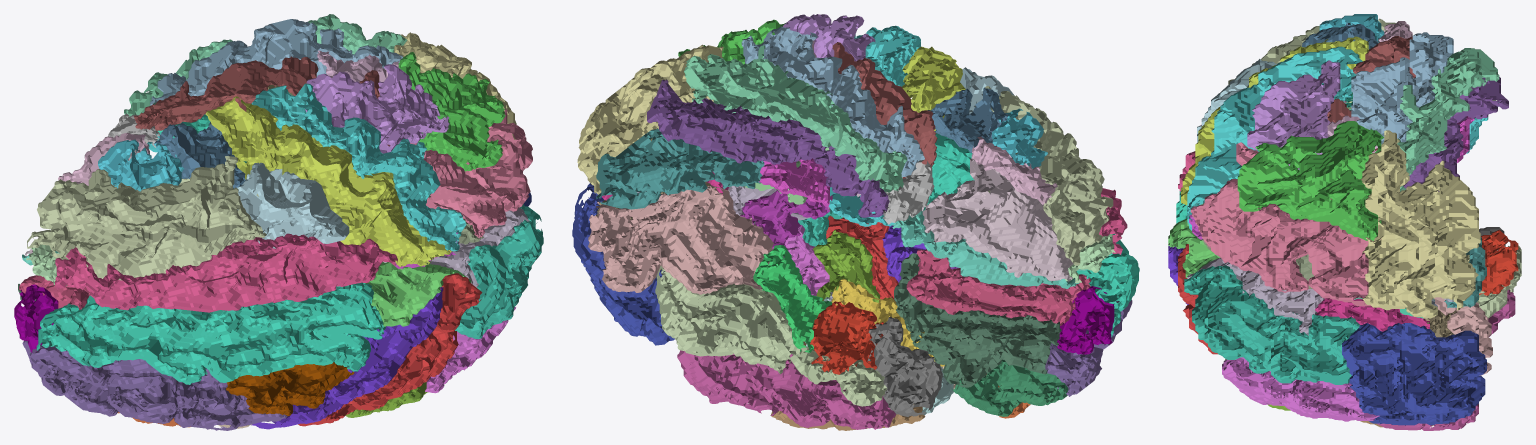
The model's file is wmparc.glb.
3 views of the same model, side by side, from view 1: azimuth 30°, elevation 25°; view 2: azimuth 150°, elevation 25°; view 3: azimuth 270°, elevation 25° (orthographic). The views are drawn at different scales.
Visible parts, largest first — view 1: 2028_ctx-rh-superiorfrontal, 3027_wm-lh-rostralmiddlefrontal, 3028_wm-lh-superiorfrontal, 3024_wm-lh-precentral, 2027_ctx-rh-rostralmiddlefrontal, 3022_wm-lh-postcentral, 3029_wm-lh-superiorparietal, 3031_wm-lh-supramarginal, 3008_wm-lh-inferiorparietal, 3015_wm-lh-middletemporal, 3003_wm-lh-caudalmiddlefrontal, 3030_wm-lh-superiortemporal (+18 smaller); view 2: 2013_ctx-rh-lingual, 2007_ctx-rh-fusiform, 3009_wm-lh-inferiortemporal, 3007_wm-lh-fusiform, 3012_wm-lh-lateralorbitofrontal, 2012_ctx-rh-lateralorbitofrontal, 2009_ctx-rh-inferiortemporal, 3013_wm-lh-lingual, 3015_wm-lh-middletemporal, 3027_wm-lh-rostralmiddlefrontal, 2014_ctx-rh-medialorbitofrontal, 3011_wm-lh-lateraloccipital (+33 smaller); view 3: 3011_wm-lh-lateraloccipital, 2011_ctx-rh-lateraloccipital, 3029_wm-lh-superiorparietal, 2029_ctx-rh-superiorparietal, 3008_wm-lh-inferiorparietal, 3022_wm-lh-postcentral, 3015_wm-lh-middletemporal, 3009_wm-lh-inferiortemporal, 3031_wm-lh-supramarginal, 2008_ctx-rh-inferiorparietal, 3007_wm-lh-fusiform, 2025_ctx-rh-precuneus (+19 smaller).
Part boxes in pixels (left/top/right/bottom): 2028_ctx-rh-superiorfrontal: left=36, top=282, right=385, bottom=384; 3027_wm-lh-rostralmiddlefrontal: left=27, top=156, right=266, bottom=280; 3028_wm-lh-superiorfrontal: left=55, top=233, right=397, bottom=312; 3024_wm-lh-precentral: left=205, top=96, right=451, bottom=266; 2027_ctx-rh-rostralmiddlefrontal: left=22, top=339, right=287, bottom=430; 3022_wm-lh-postcentral: left=251, top=83, right=466, bottom=251; 3029_wm-lh-superiorparietal: left=387, top=109, right=532, bottom=238; 3031_wm-lh-supramarginal: left=305, top=64, right=449, bottom=153; 3008_wm-lh-inferiorparietal: left=398, top=52, right=505, bottom=171; 3015_wm-lh-middletemporal: left=150, top=19, right=402, bottom=105; 3003_wm-lh-caudalmiddlefrontal: left=237, top=162, right=349, bottom=248; 3030_wm-lh-superiortemporal: left=134, top=56, right=379, bottom=130; 2013_ctx-rh-lingual: left=588, top=184, right=773, bottom=295; 2007_ctx-rh-fusiform: left=655, top=265, right=887, bottom=406; 3009_wm-lh-inferiortemporal: left=684, top=45, right=907, bottom=193; 3007_wm-lh-fusiform: left=647, top=79, right=889, bottom=217; 3012_wm-lh-lateralorbitofrontal: left=922, top=158, right=1073, bottom=281; 2012_ctx-rh-lateralorbitofrontal: left=894, top=253, right=1061, bottom=387; 2009_ctx-rh-inferiortemporal: left=677, top=350, right=895, bottom=429; 3013_wm-lh-lingual: left=596, top=128, right=764, bottom=209; 3015_wm-lh-middletemporal: left=741, top=26, right=924, bottom=178; 3027_wm-lh-rostralmiddlefrontal: left=985, top=86, right=1113, bottom=265; 2014_ctx-rh-medialorbitofrontal: left=906, top=249, right=1091, bottom=325; 3011_wm-lh-lateraloccipital: left=577, top=44, right=723, bottom=194; 3011_wm-lh-lateraloccipital: left=1358, top=130, right=1480, bottom=318; 2011_ctx-rh-lateraloccipital: left=1342, top=323, right=1486, bottom=425; 3029_wm-lh-superiorparietal: left=1190, top=142, right=1381, bottom=306; 2029_ctx-rh-superiorparietal: left=1184, top=265, right=1360, bottom=384; 3008_wm-lh-inferiorparietal: left=1237, top=121, right=1383, bottom=240; 3022_wm-lh-postcentral: left=1187, top=46, right=1362, bottom=230; 3015_wm-lh-middletemporal: left=1351, top=32, right=1453, bottom=144; 3009_wm-lh-inferiortemporal: left=1397, top=48, right=1499, bottom=191; 3031_wm-lh-supramarginal: left=1247, top=60, right=1340, bottom=169; 2008_ctx-rh-inferiorparietal: left=1222, top=357, right=1379, bottom=421; 3007_wm-lh-fusiform: left=1403, top=77, right=1508, bottom=191; 2025_ctx-rh-precuneus: left=1187, top=258, right=1324, bottom=335.
Bounding box in the file's own units: 182 × 126 × 112.
